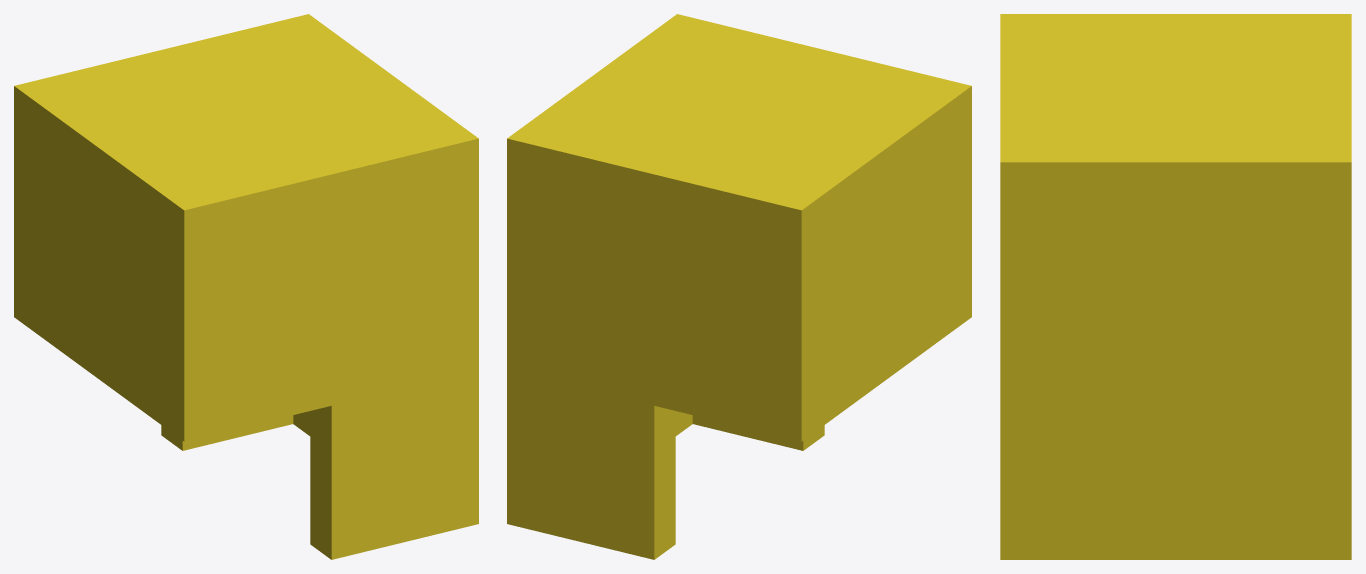
The model's file is golden_arm_L.fbx.
The picture shows the model from 3 angles, left to right: view 1: azimuth 30°, elevation 25°; view 2: azimuth 150°, elevation 25°; view 3: azimuth 270°, elevation 25°; orthographic projection. The views are drawn at different scales.
Parts seen in each view (by area): view 1: Chestplate:Gold-Arm.L; view 2: Chestplate:Gold-Arm.L; view 3: Chestplate:Gold-Arm.L.
Part boxes in pixels (bbox=[...]): Chestplate:Gold-Arm.L: bbox=[14, 14, 478, 559]; Chestplate:Gold-Arm.L: bbox=[507, 14, 971, 559]; Chestplate:Gold-Arm.L: bbox=[1000, 14, 1351, 559].
Bounding box in the file's own units: 28.33 × 35.41 × 28.33.
